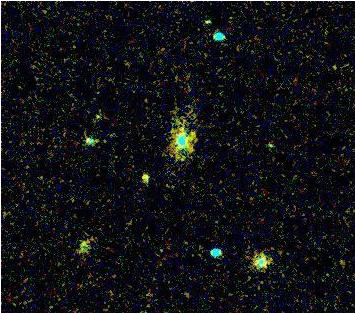star: (193, 6, 223, 36)
